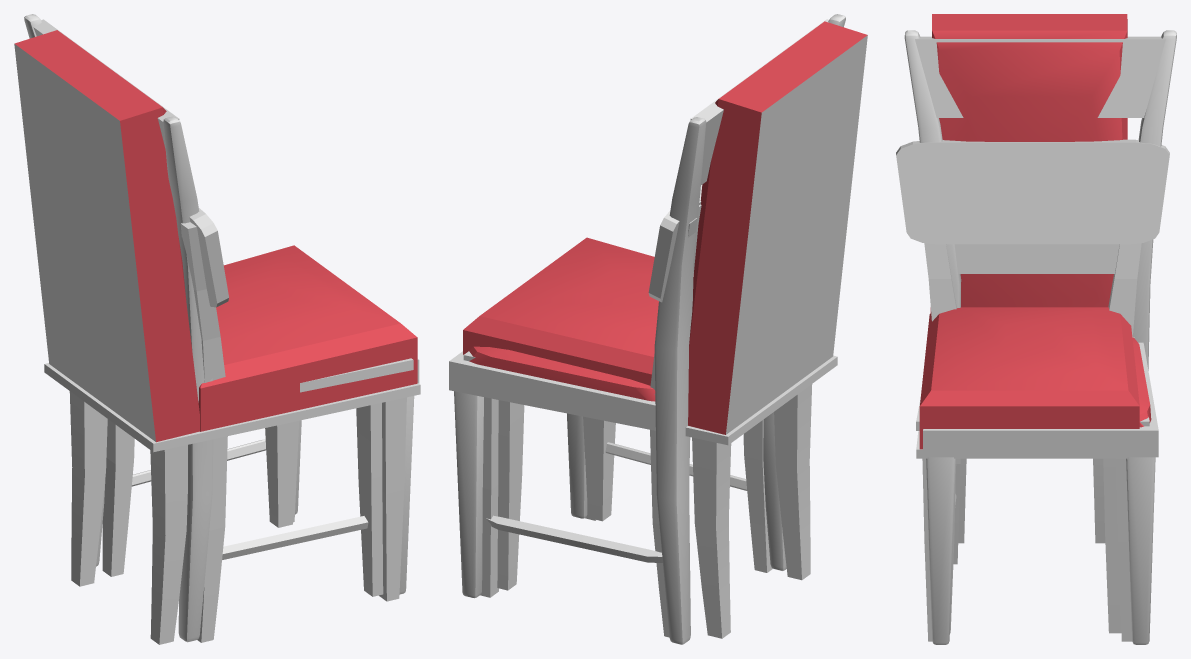
Rendered from Mesh_Chairs.fbx.
3 renders of one model, left to right at view 1: azimuth 30°, elevation 25°; view 2: azimuth 150°, elevation 25°; view 3: azimuth 270°, elevation 25°, orthographic. The views are drawn at different scales.
Visible parts, largest first — view 1: Cube.018, Cube.006, Cube.008; view 2: Cube.018, Cube.008, Cube.006; view 3: Cube.018, Cube.006, Cube.008.
Part boxes in pixels (bbox=[...]): Cube.018: bbox=[14, 30, 420, 644]; Cube.006: bbox=[102, 208, 413, 642]; Cube.008: bbox=[24, 14, 419, 642]; Cube.018: bbox=[463, 21, 867, 638]; Cube.008: bbox=[449, 14, 845, 644]; Cube.006: bbox=[463, 185, 772, 637]; Cube.018: bbox=[916, 14, 1139, 633]; Cube.006: bbox=[896, 139, 1169, 641]; Cube.008: bbox=[904, 30, 1176, 644].
Size of the model in its own units: 313 by 560 by 280.
